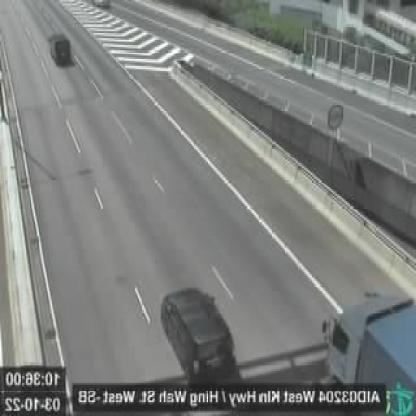Car: (164, 290, 239, 375), (51, 32, 73, 62)
